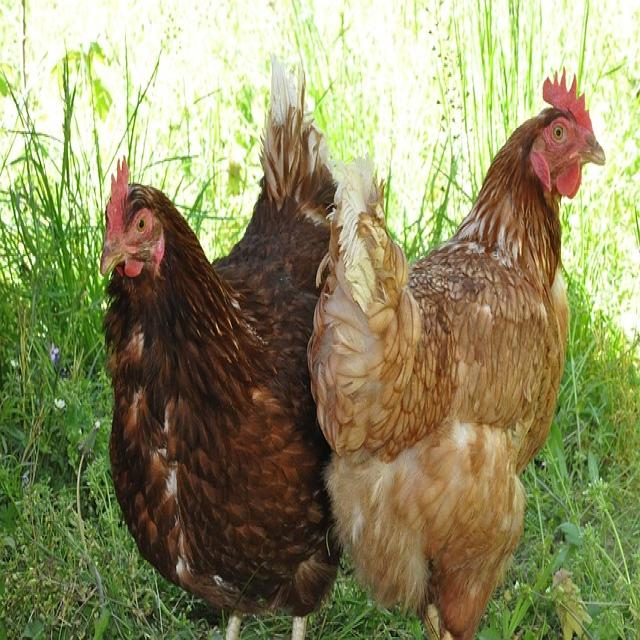Chicken: (316, 69, 612, 633), (89, 93, 320, 619)
